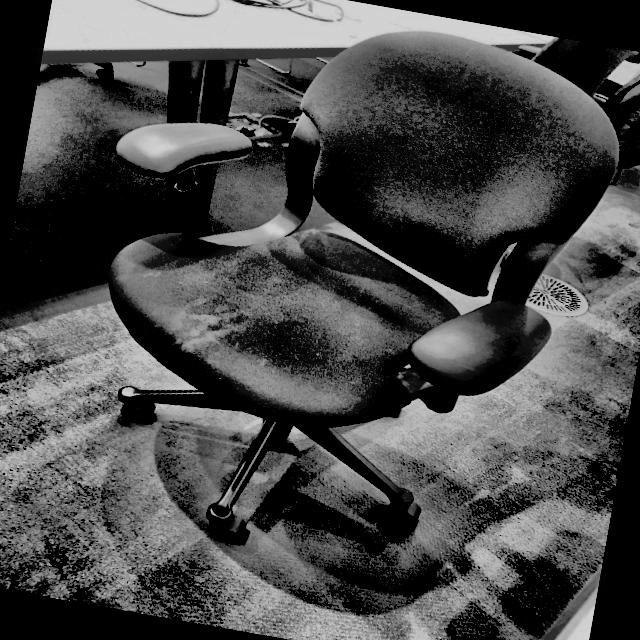chair: (47, 0, 631, 602)
